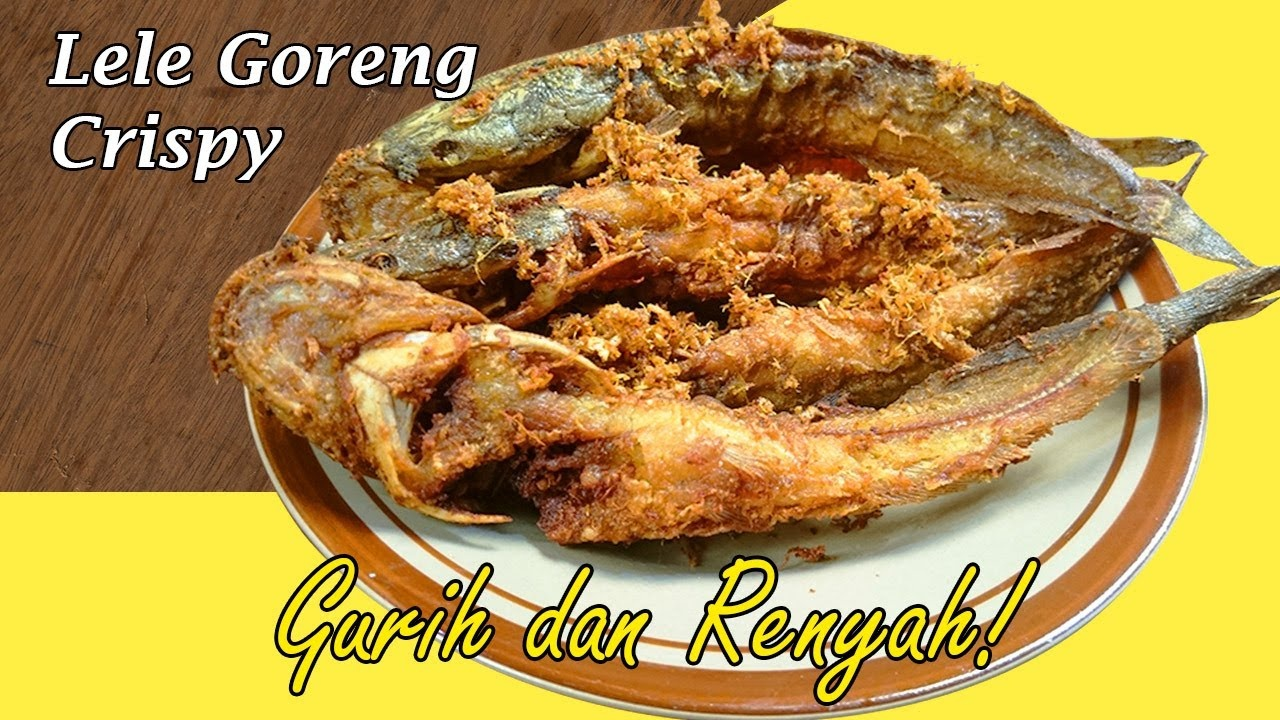pecel_lele: (175, 228, 1239, 542)
